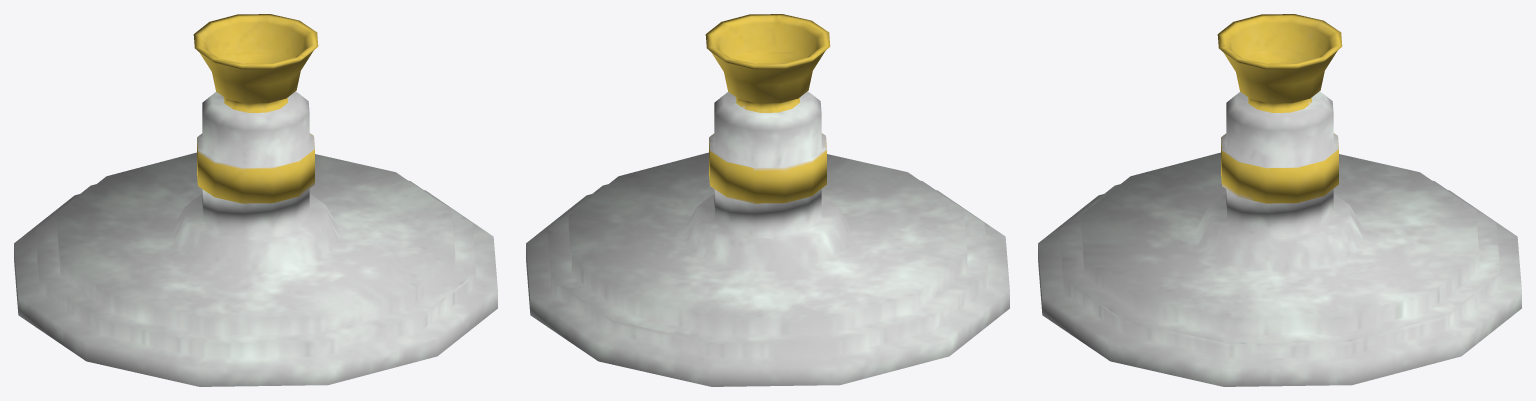
Rendered from MainTorch.glb.
3 views of the same model, side by side, from view 1: azimuth 30°, elevation 25°; view 2: azimuth 150°, elevation 25°; view 3: azimuth 270°, elevation 25° (orthographic).
Visible parts, largest first — view 1: Floortorch_Main; view 2: Floortorch_Main; view 3: Floortorch_Main.
Part boxes in pixels (x1,y1,x2,y2): Floortorch_Main: (14, 14, 497, 386); Floortorch_Main: (526, 14, 1009, 386); Floortorch_Main: (1038, 14, 1521, 386).
Size of what is drawn, in the model's own units: 2.97 by 1.65 by 2.97.
Materials: 1 (1 with a texture image).
